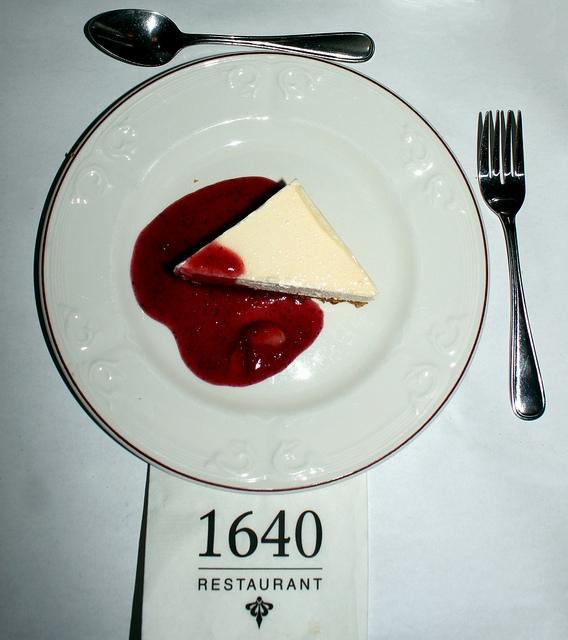strawberry: (244, 322, 286, 346), (230, 339, 250, 377)
